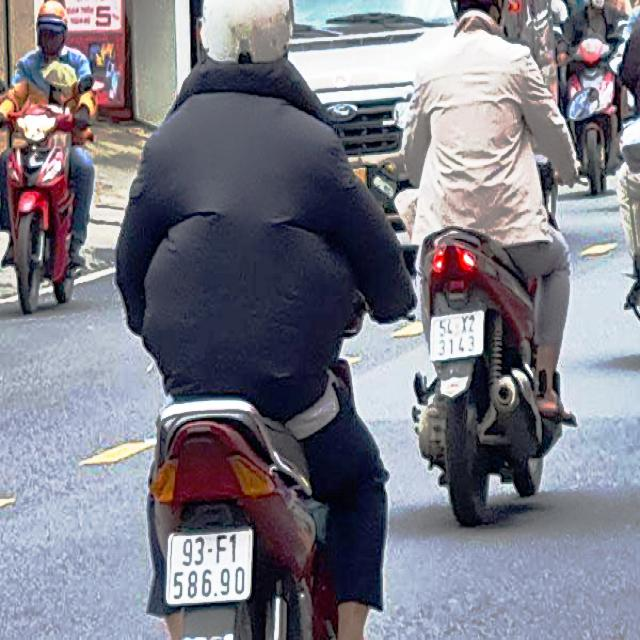license_plate: (170, 530, 251, 607), (433, 309, 484, 366)
